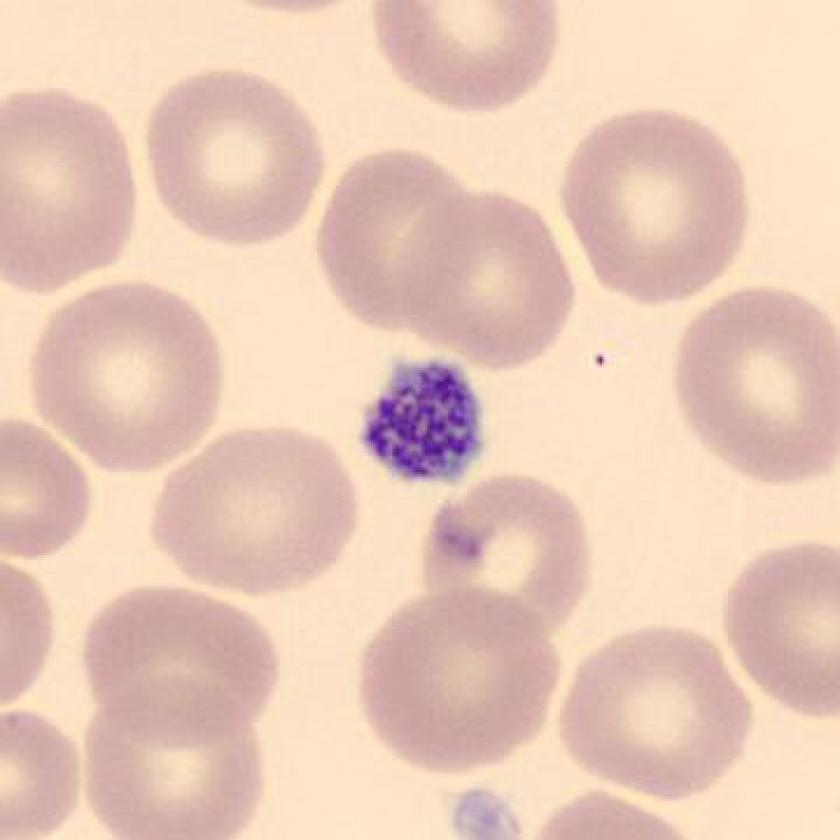platelets: (347, 346, 501, 498)
